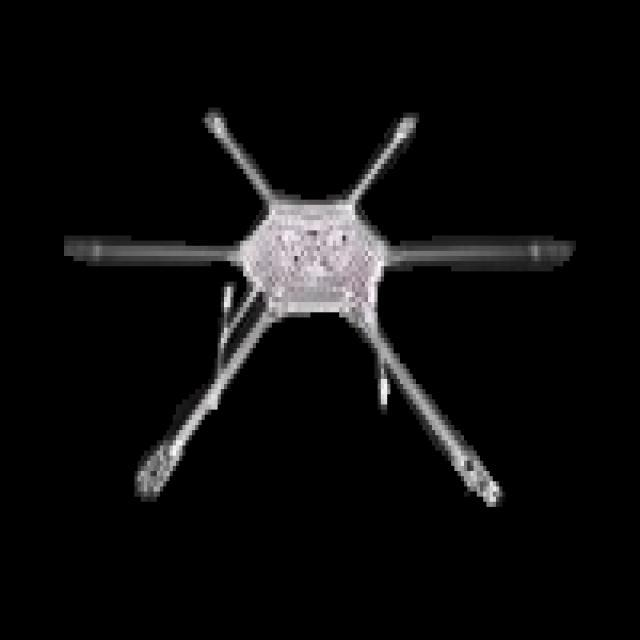drone: (62, 85, 578, 523)
